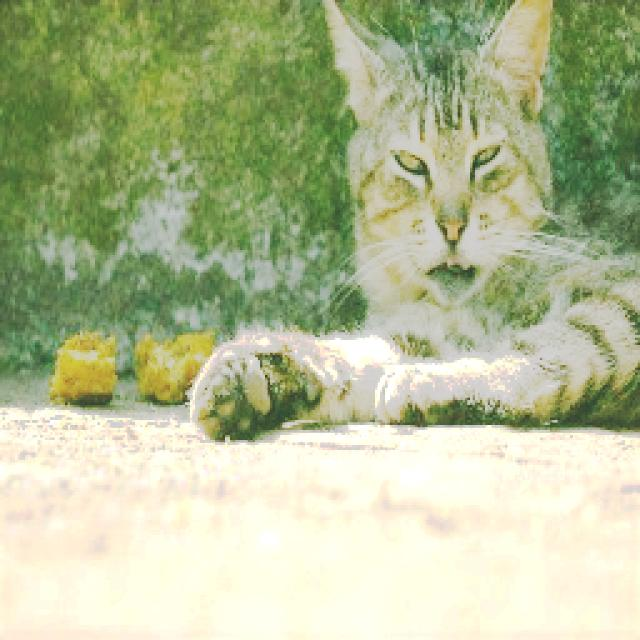cat: (195, 2, 640, 447)
